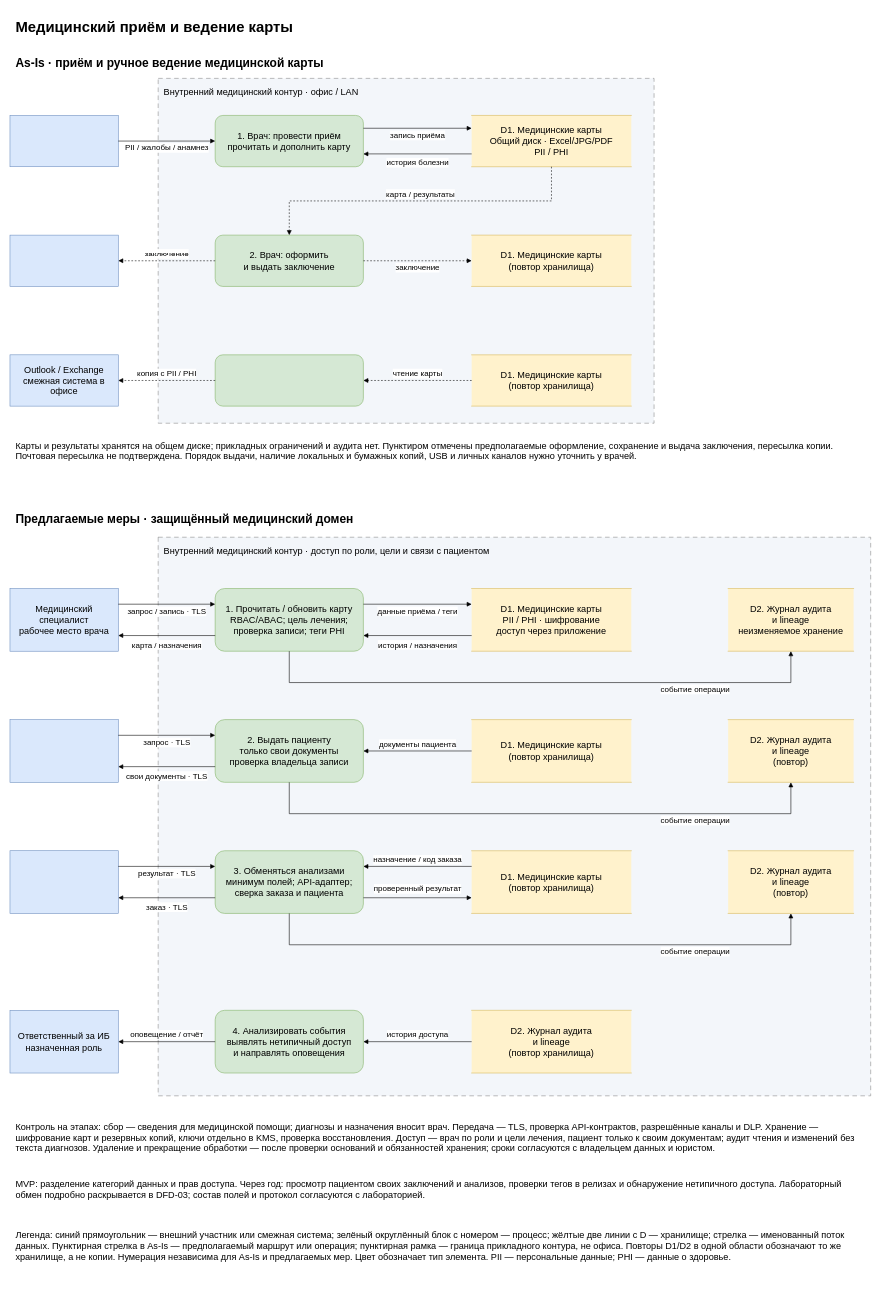
Some shapes in this 881 by 1302 pixel diagram are drawn without their labels. The shapes that lost their labels are listed below. From the top down, each one's centre as x and y in pixels, then its label:
pixel 63 141: Пациент
pixel 63 260: Пациент (повтор субъекта)
pixel 289 380: 3. Сотрудник: прочитать и переслать копию
pixel 63 750: Пациент личный кабинет
pixel 63 881: Лаборатория внешняя система
